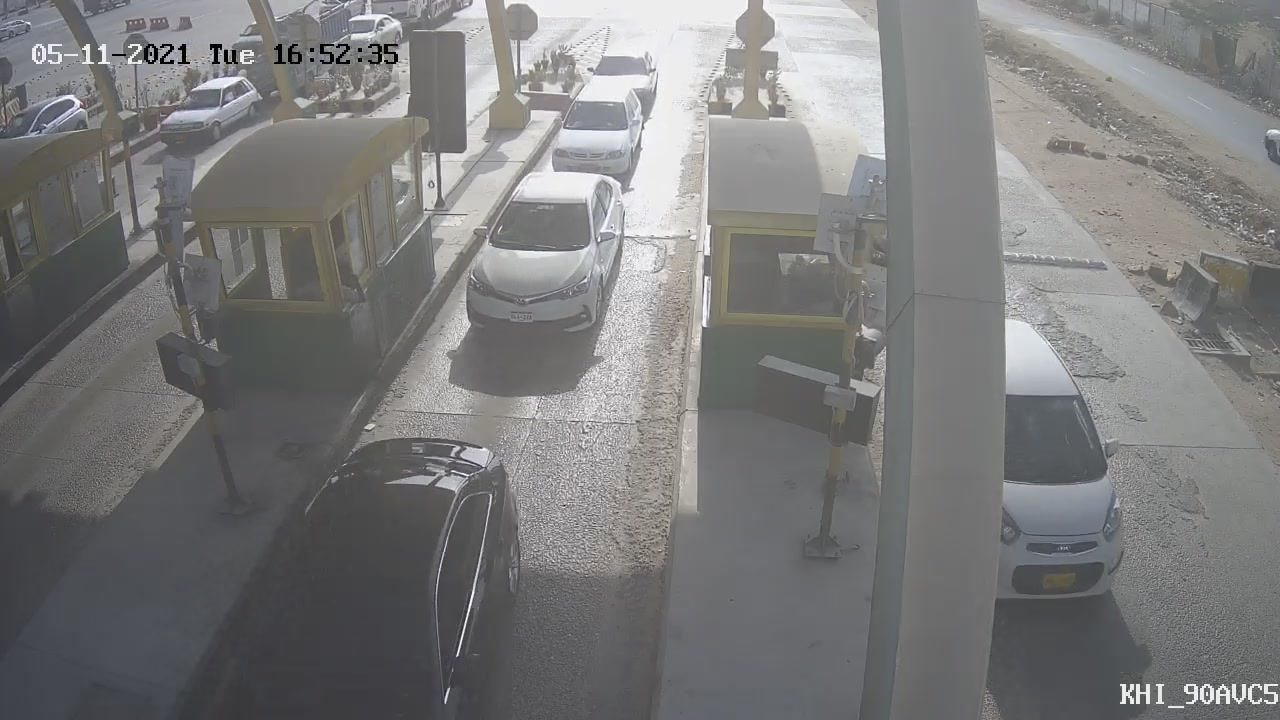F1: (440, 152, 647, 369), (537, 74, 660, 196)
